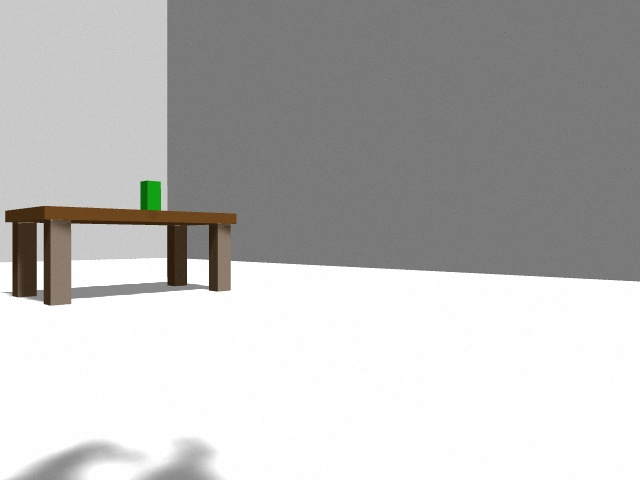green_cube: (141, 181, 161, 210)
